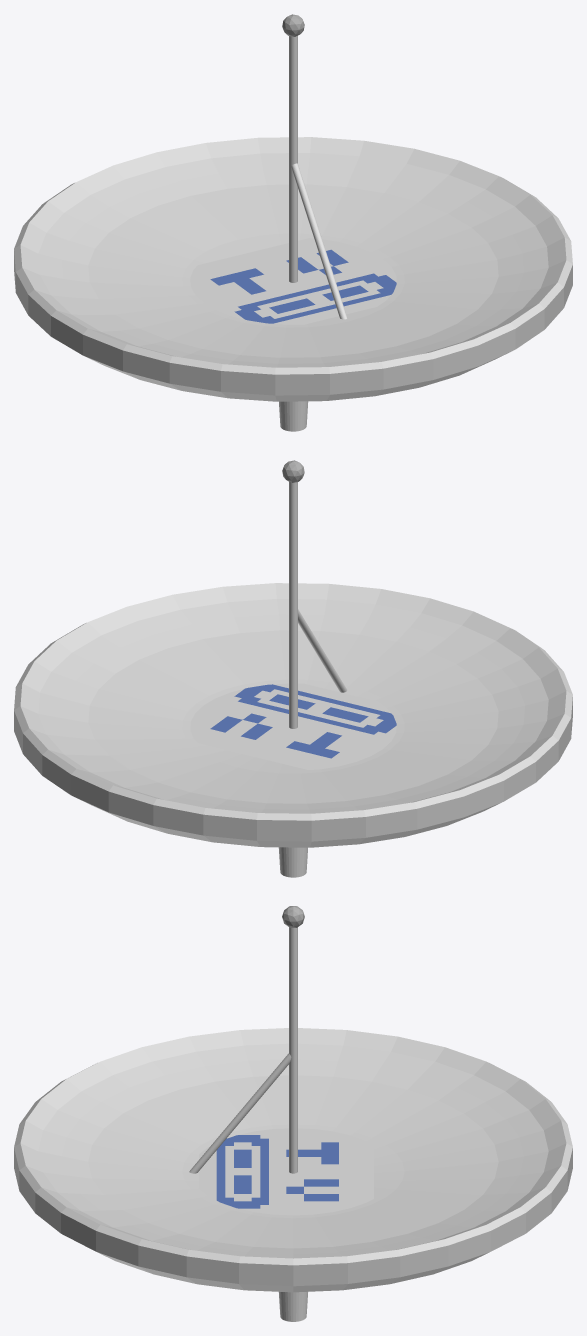
File: DishTV.fbx
3 renders of one model, top to bottom at view 1: azimuth 30°, elevation 25°; view 2: azimuth 150°, elevation 25°; view 3: azimuth 270°, elevation 25°, orthographic.
Visible parts, largest first — view 1: Cylinder.033, Plane.014, Cylinder.034, Cylinder.035; view 2: Cylinder.033, Plane.014, Cylinder.035, Cylinder.034; view 3: Cylinder.033, Plane.014, Cylinder.034, Cylinder.035.
Boxes of the visible parts, bbox=[...] form: Cylinder.033: bbox=[14, 35, 572, 401]; Plane.014: bbox=[190, 238, 396, 324]; Cylinder.034: bbox=[291, 163, 347, 319]; Cylinder.035: bbox=[279, 401, 308, 431]; Cylinder.033: bbox=[14, 481, 572, 847]; Plane.014: bbox=[190, 683, 396, 769]; Cylinder.035: bbox=[278, 847, 307, 877]; Cylinder.034: bbox=[298, 609, 347, 692]; Cylinder.033: bbox=[14, 927, 572, 1292]; Plane.014: bbox=[199, 1128, 373, 1215]; Cylinder.034: bbox=[189, 1053, 291, 1173]; Cylinder.035: bbox=[278, 1291, 307, 1321].
Bounding box in the file's own units: 200 × 162 × 200.
